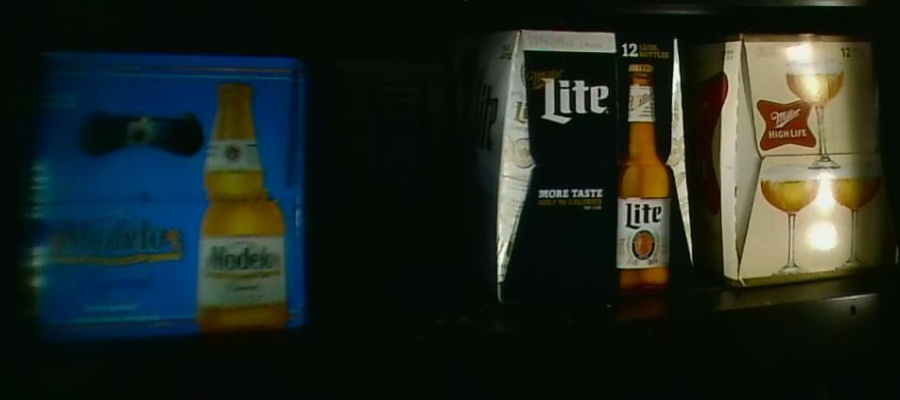bottle: (20, 49, 313, 333), (484, 33, 698, 301), (696, 35, 887, 287), (332, 50, 443, 206)
